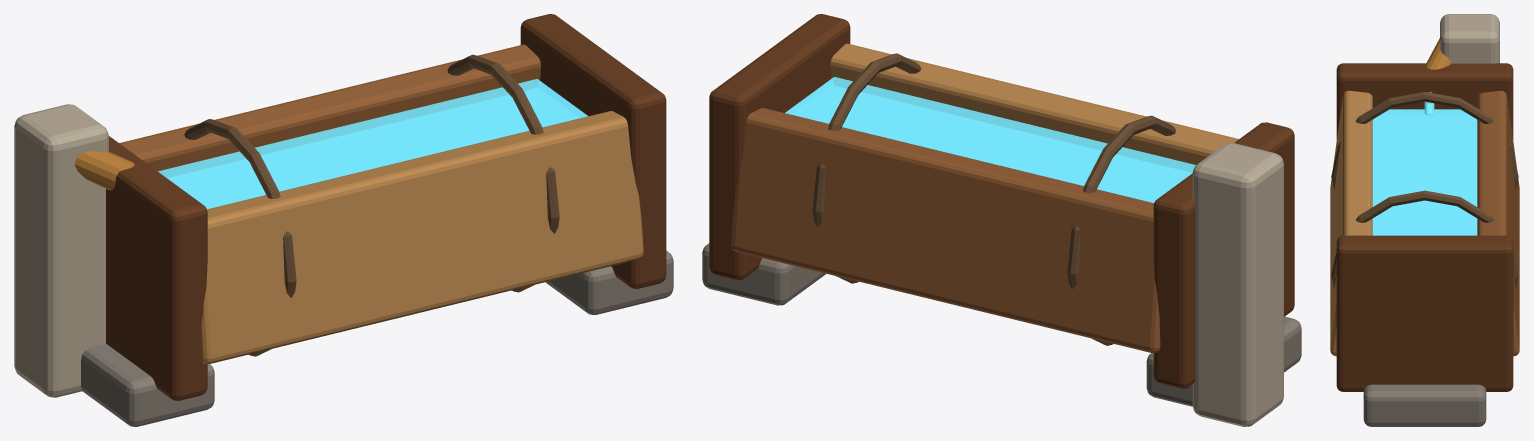
3 renders of one model, left to right at view 1: azimuth 30°, elevation 25°; view 2: azimuth 150°, elevation 25°; view 3: azimuth 270°, elevation 25°, orthographic. The views are drawn at different scales.
Visible parts, largest first — view 1: WK_TimberWaterTrough_LOD0_High; view 2: WK_TimberWaterTrough_LOD0_High; view 3: WK_TimberWaterTrough_LOD0_High.
Boxes of the visible parts, bbox=[...] form: WK_TimberWaterTrough_LOD0_High: bbox=[14, 14, 673, 426]; WK_TimberWaterTrough_LOD0_High: bbox=[702, 14, 1301, 426]; WK_TimberWaterTrough_LOD0_High: bbox=[1330, 14, 1519, 426].
Bounding box in the file's own units: 3.43 × 1.48 × 1.26.
